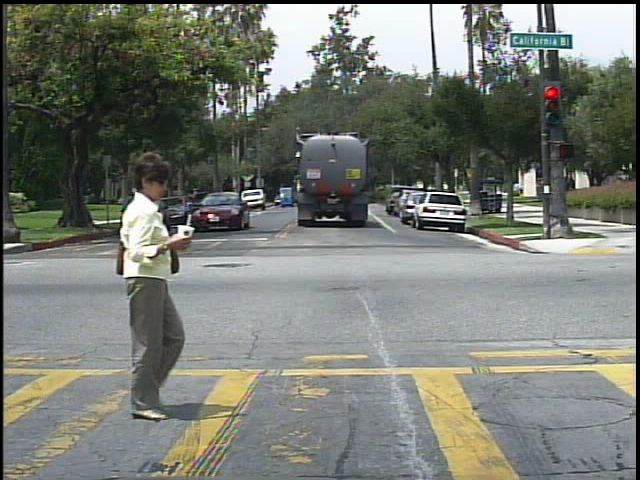person: (88, 151, 207, 423), (564, 172, 582, 205), (516, 181, 530, 200)
